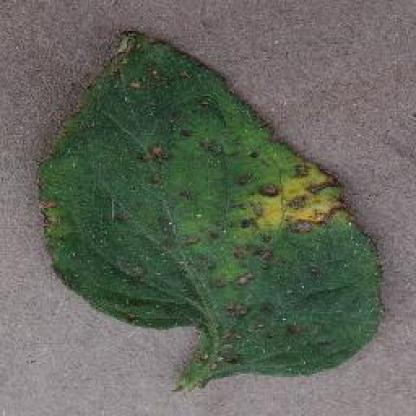bad leaf: (37, 26, 382, 387)
